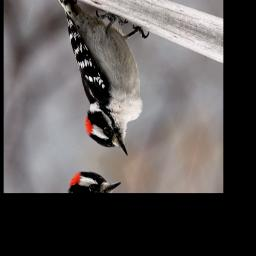Woodpecker: (25, 0, 163, 158)
